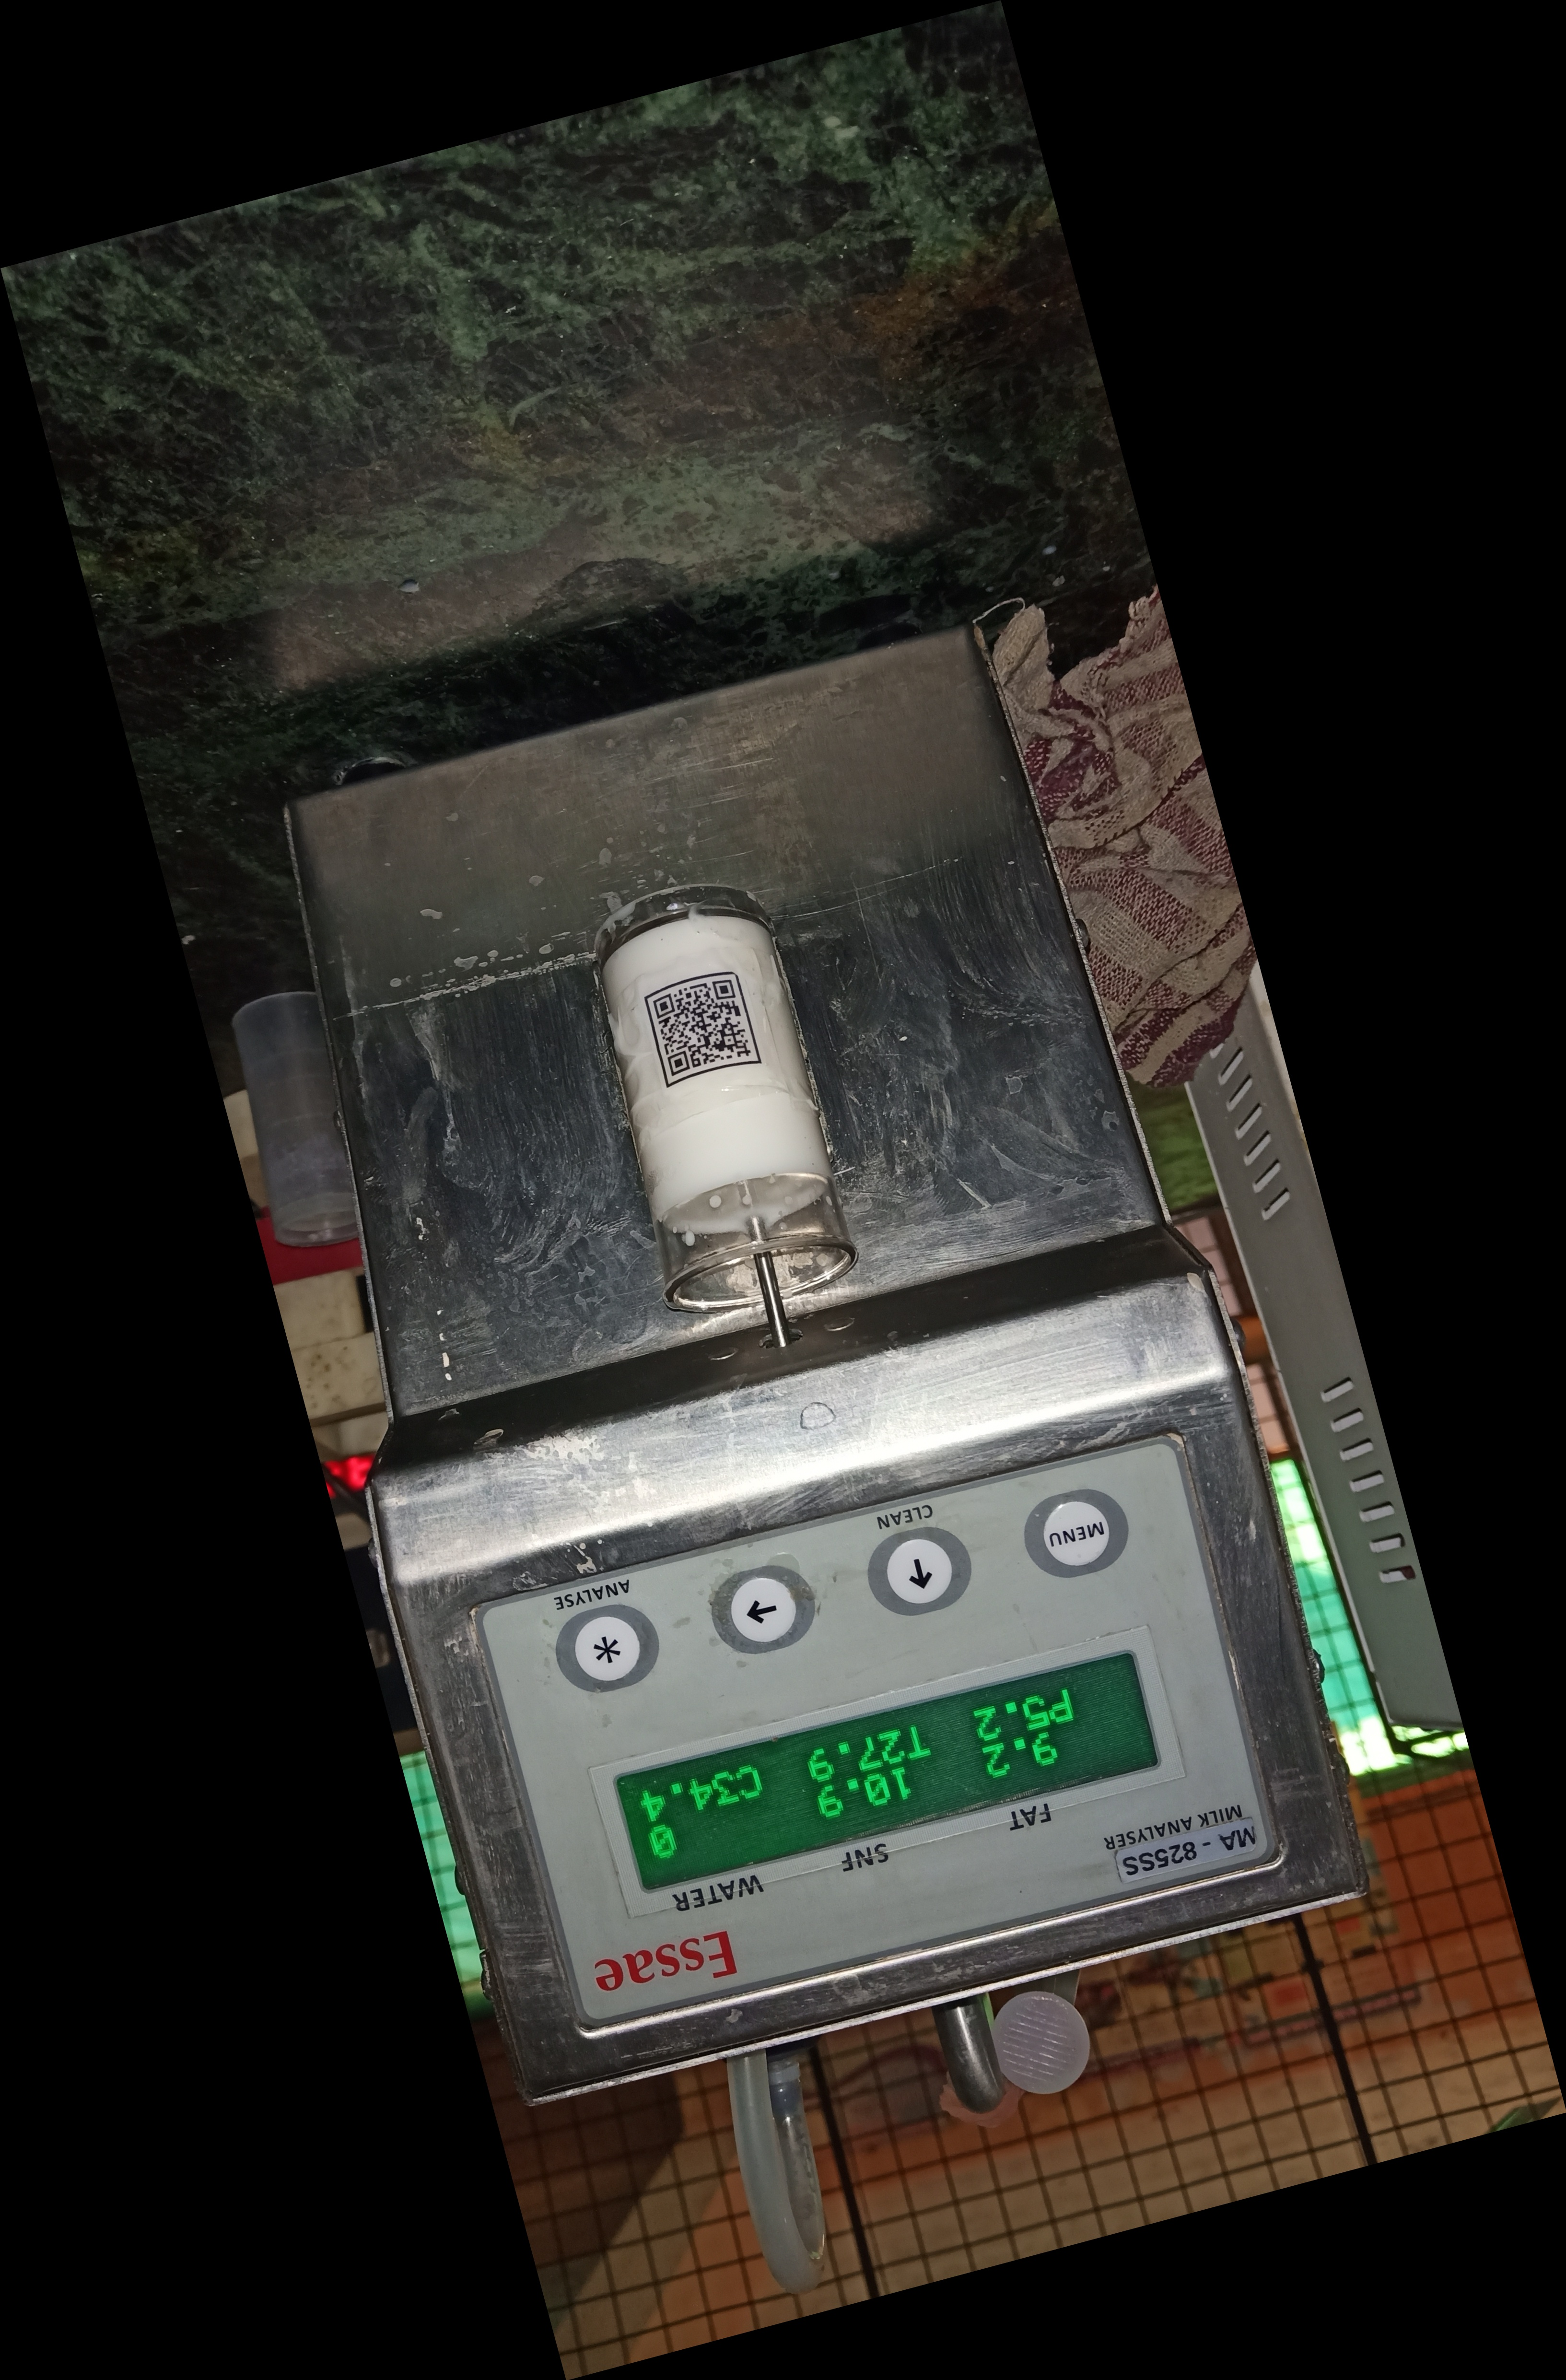lcd: (592, 1641, 1168, 1920)
qr: (645, 968, 769, 1097)
